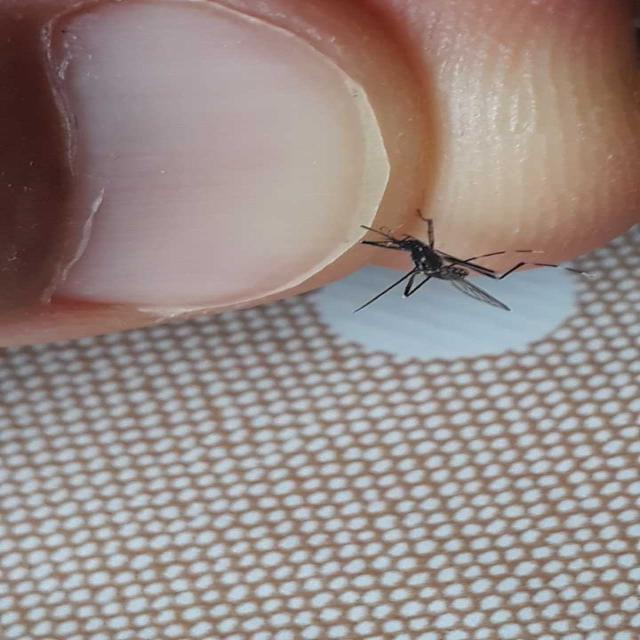albopictus: (332, 201, 600, 315)
